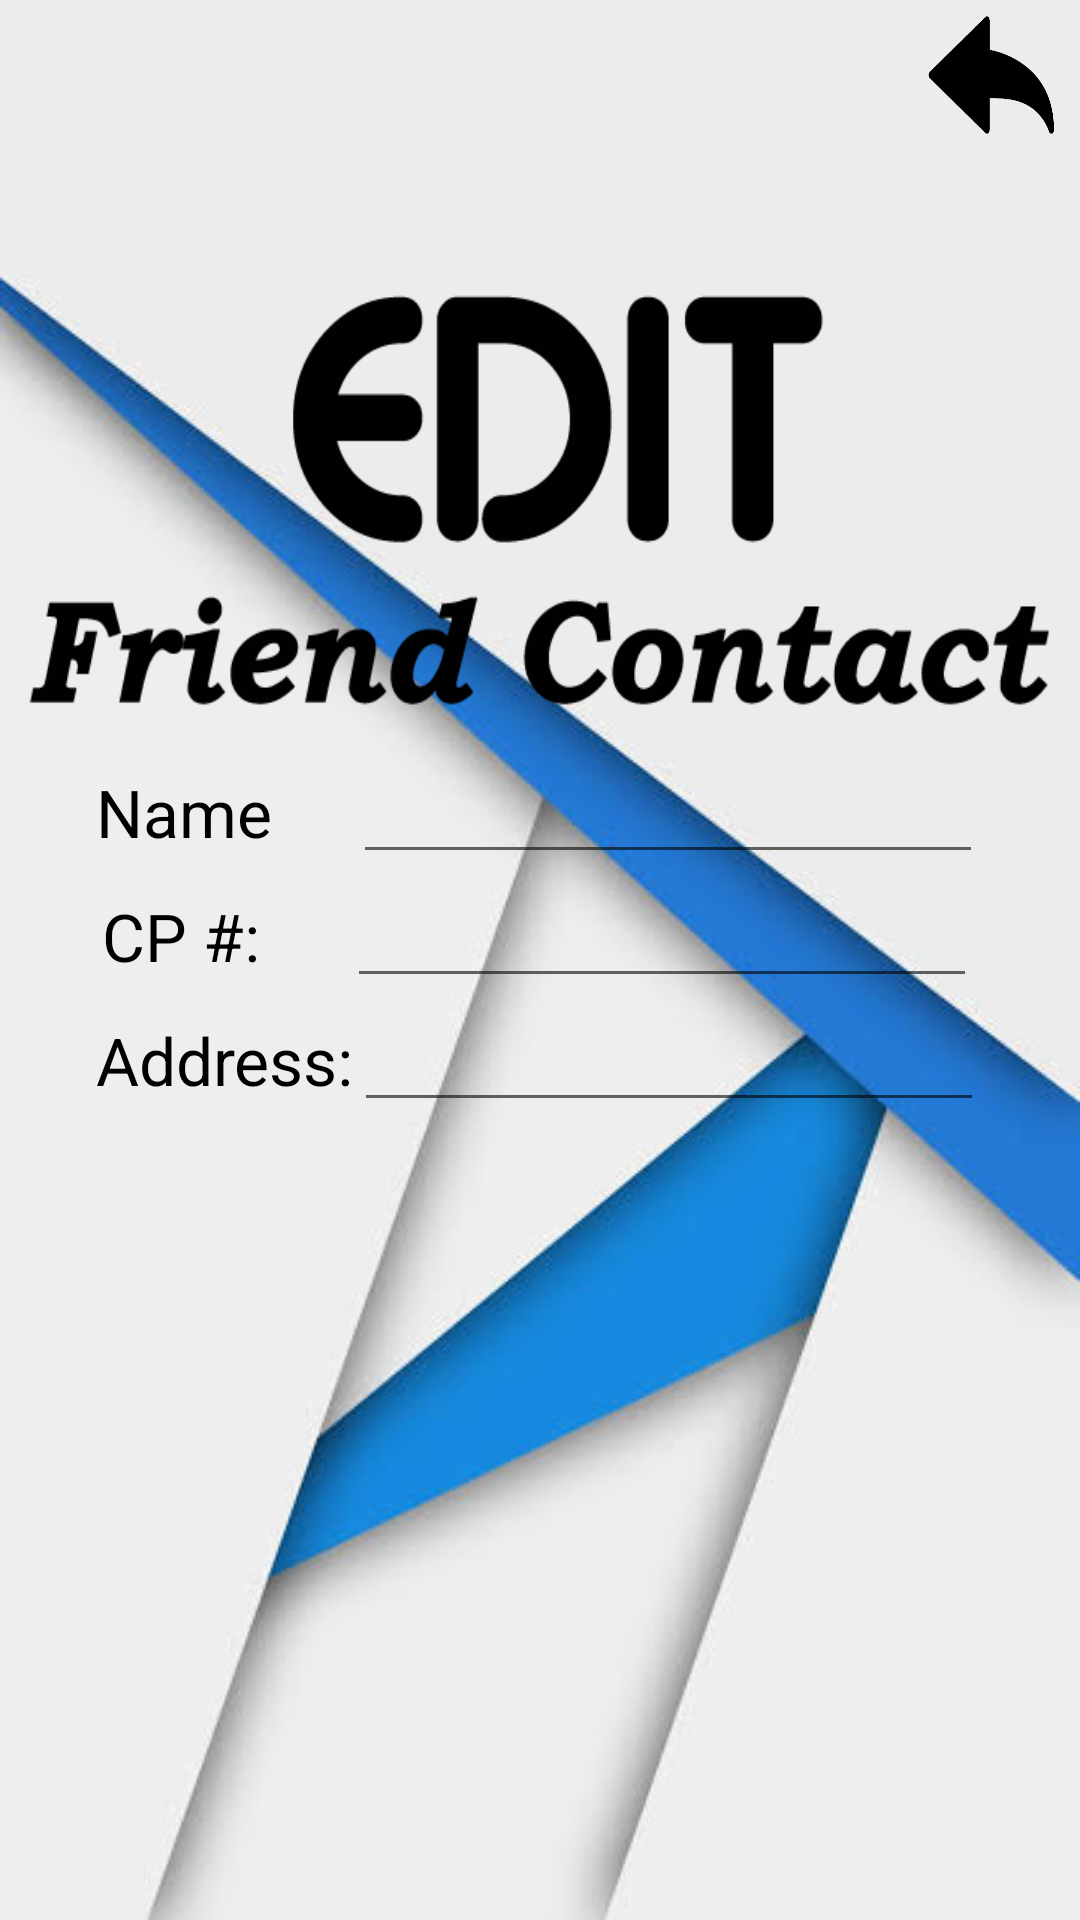

Locate icon controls on the screen. Image size 1080px×1920px, boxes as [x1,y1,x2,y2].
back arrow: [928,16,1054,134]
